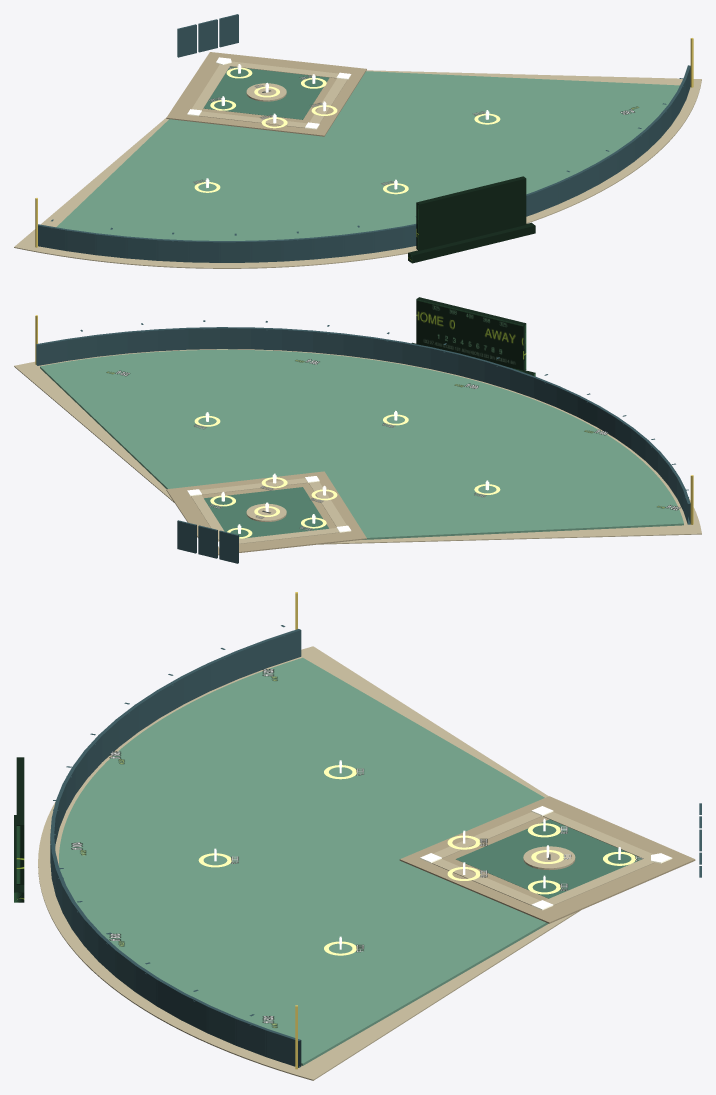
Rendered from baseball_stadium.glb.
The picture shows the model from 3 angles, top to bottom: view 1: azimuth 30°, elevation 25°; view 2: azimuth 150°, elevation 25°; view 3: azimuth 270°, elevation 25°; orthographic projection. The views are drawn at different scales.
Visible parts, largest first — view 1: Baseball stadium, Scoreboard, FielderMarks; view 2: Baseball stadium, Scoreboard, FielderMarks; view 3: Baseball stadium, FielderMarks, Scoreboard.
Part boxes in pixels (x1,y1,x2,y2): Baseball stadium: [14, 14, 701, 268]; Scoreboard: [408, 176, 535, 263]; FielderMarks: [194, 67, 500, 194]; Baseball stadium: [14, 315, 701, 563]; Scoreboard: [412, 297, 535, 376]; FielderMarks: [194, 414, 500, 538]; Baseball stadium: [38, 592, 701, 1080]; FielderMarks: [198, 765, 636, 955]; Scoreboard: [14, 757, 24, 902].
Size of the model in its own units: 295 by 23.1 by 198.
Materials: 13 (3 with a texture image).
